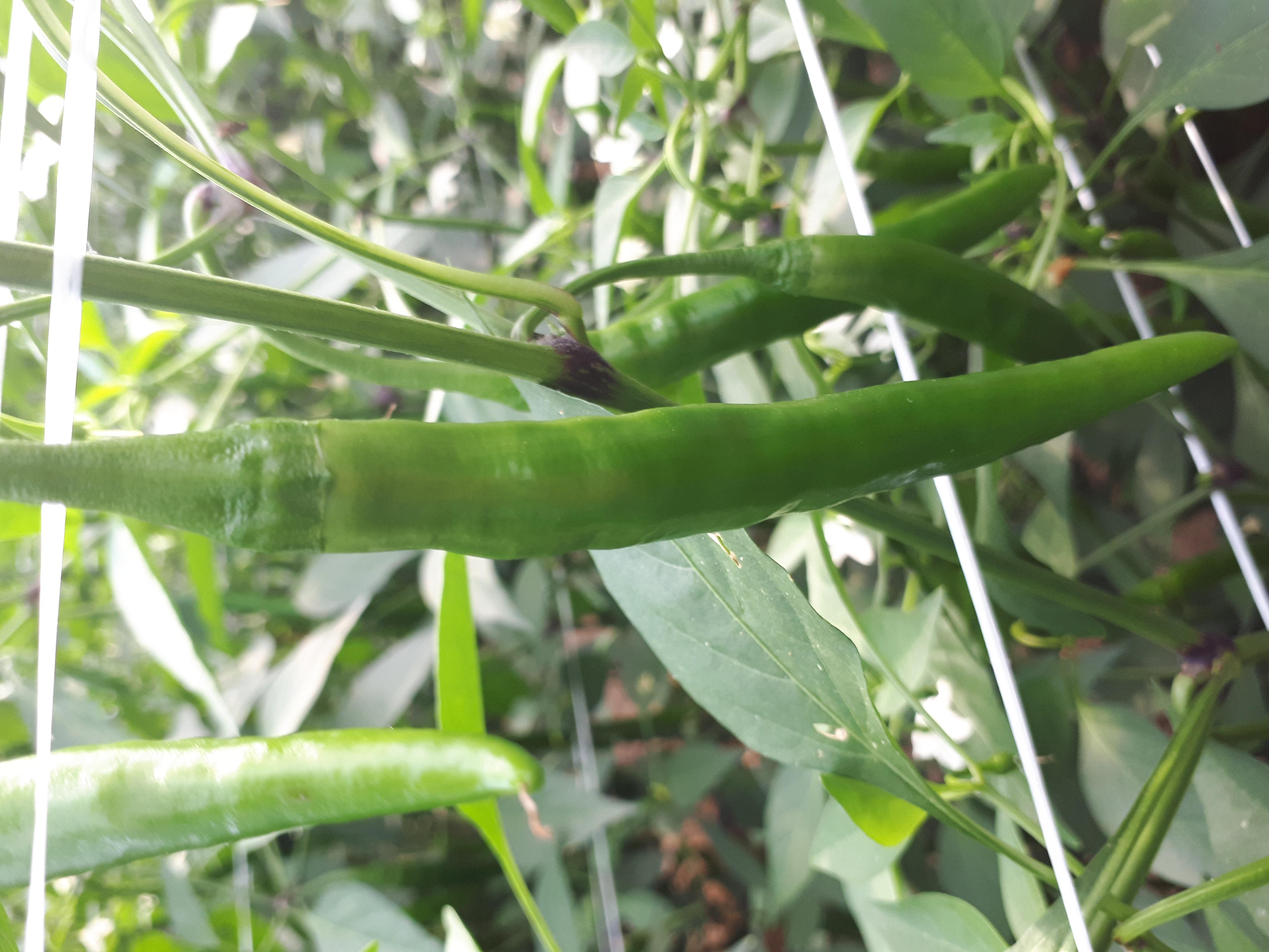Buah Cabai Sehat: (190, 326, 1248, 573), (0, 717, 540, 900)
